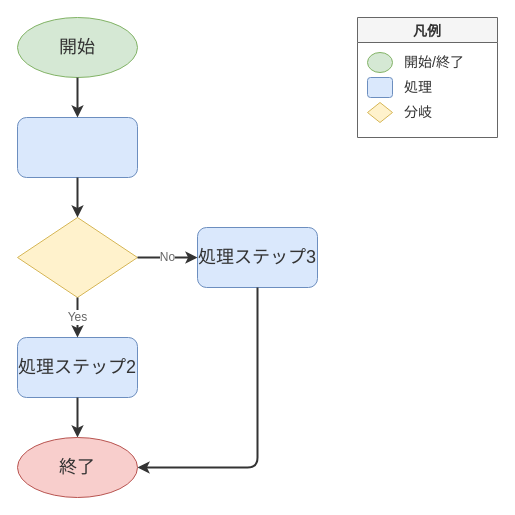
This 515x515 diagram has some shape labels left out. The shapes that lost their labels are listed below. From the top down, each one's centre as x and y in pixels, then its label:
point 77,147: 処理ステップ1
point 77,257: 条件分岐
